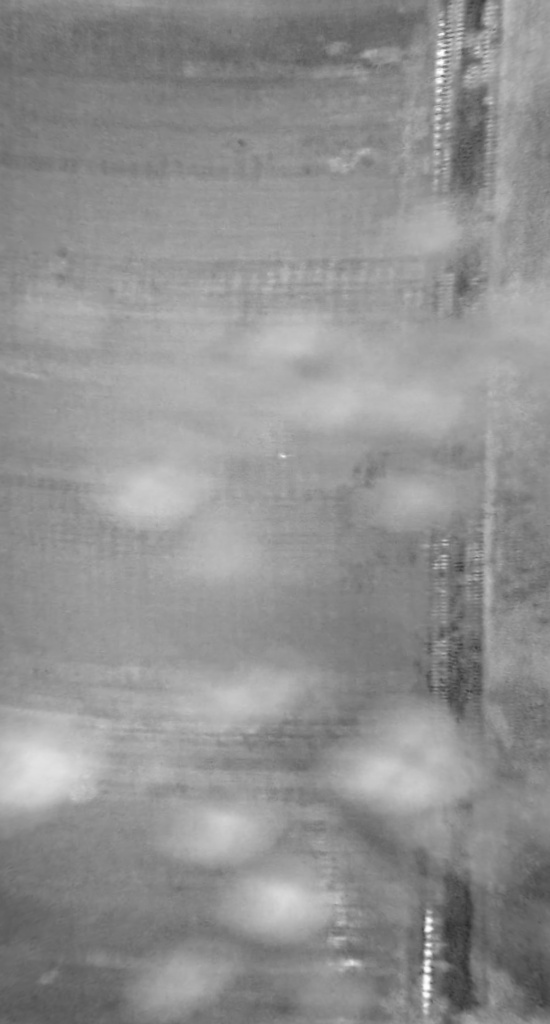splice: (420, 1, 517, 1022)
